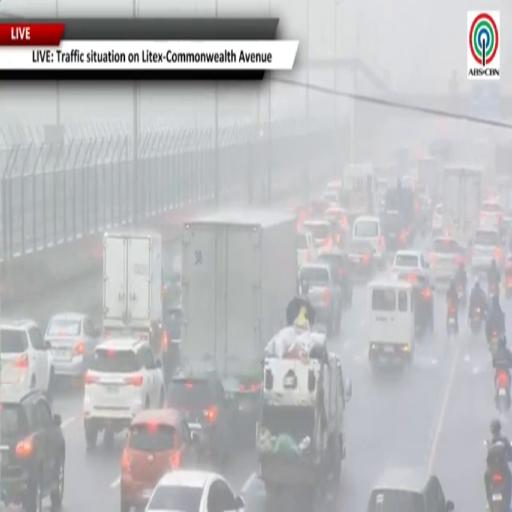car: (84, 338, 165, 450), (0, 390, 65, 511), (120, 409, 196, 511), (167, 368, 236, 463), (0, 319, 54, 401), (368, 278, 414, 367), (146, 470, 244, 511), (367, 469, 454, 511), (45, 313, 100, 377), (299, 263, 342, 335), (399, 272, 434, 334), (319, 251, 353, 307), (429, 236, 466, 284), (352, 216, 386, 267), (471, 229, 503, 271), (163, 303, 181, 377), (346, 239, 376, 280), (304, 219, 333, 254), (392, 250, 428, 271), (480, 200, 503, 231), (297, 232, 317, 267), (325, 218, 346, 247), (325, 206, 348, 231), (307, 199, 329, 218), (432, 204, 443, 230), (322, 190, 339, 204), (327, 181, 342, 194)
motorcycle: (488, 470, 507, 511), (495, 367, 510, 413), (490, 472, 507, 511), (447, 303, 458, 335), (470, 308, 483, 334), (489, 329, 499, 355), (457, 284, 467, 307), (505, 274, 511, 299), (489, 282, 498, 298)
truck: (182, 210, 297, 439), (256, 327, 351, 511), (102, 231, 166, 366), (443, 166, 483, 242), (381, 179, 416, 250), (340, 164, 375, 225), (418, 156, 443, 204), (495, 141, 511, 177)
